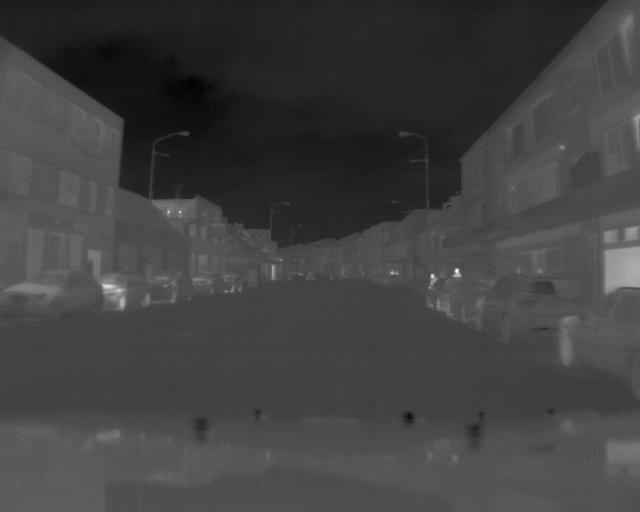car: (556, 287, 640, 391), (479, 277, 580, 346), (3, 268, 105, 318), (96, 270, 151, 310), (146, 270, 195, 303), (191, 271, 226, 296)
